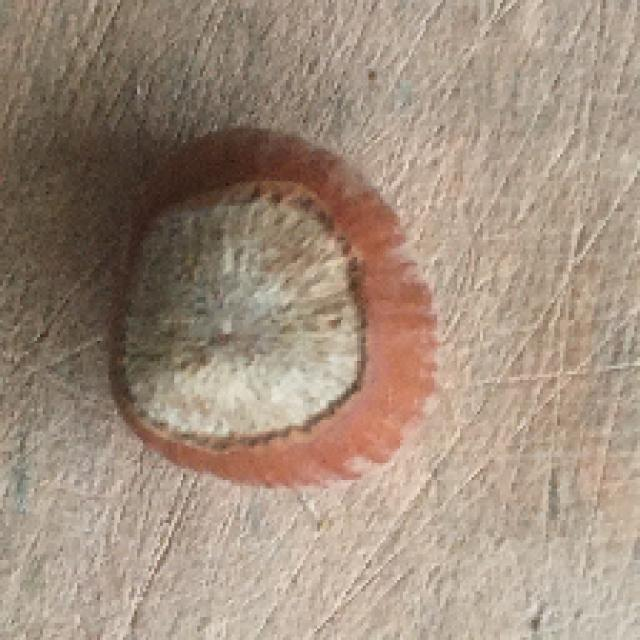QualityHazelnut: (108, 124, 444, 485)
